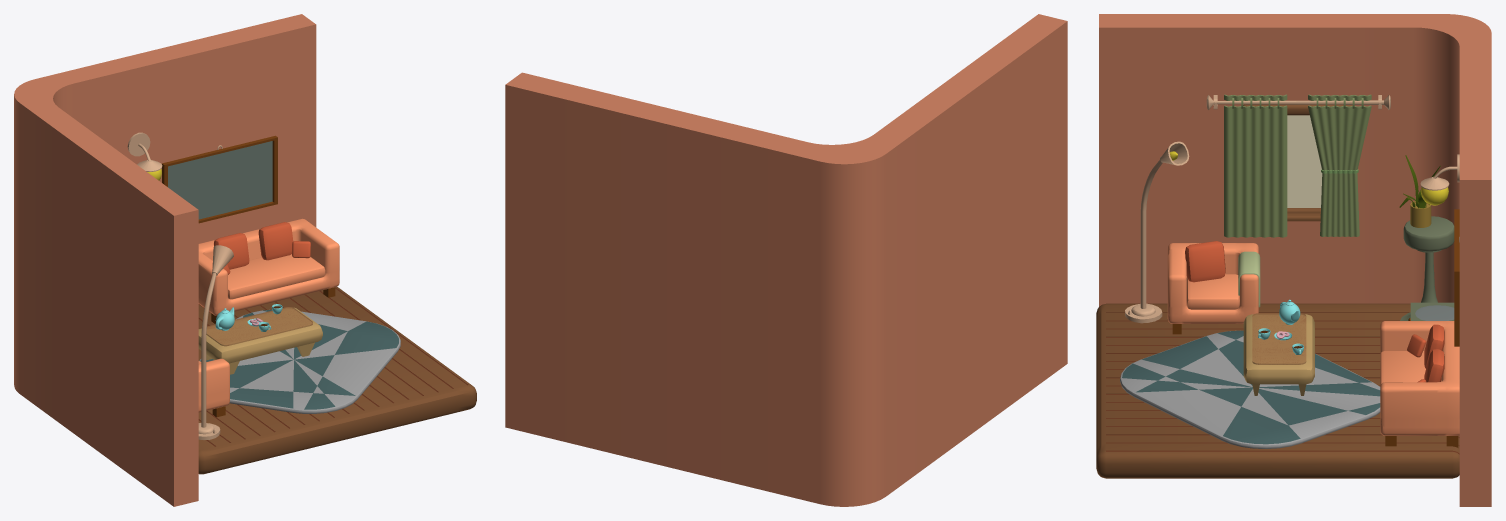
The model's file is room.gltf.
3 views of the same model, side by side, from view 1: azimuth 30°, elevation 25°; view 2: azimuth 150°, elevation 25°; view 3: azimuth 270°, elevation 25° (orthographic). The views are drawn at different scales.
Visible parts, largest first — view 1: Cube.002, Cube, Cube.009, Cube.023, Cube.004, Cube.015, Cube.005, Cube.016, Cube.007, Plane.006, Cube.010; view 2: Cube.002; view 3: Cube.002, Cube, Cube.009, Cube.021, Cube.004, Cube.022, Cube.015, Cube.010, Cube.016, Plane.006, Cylinder, Cube.011 (+9 smaller).
Part boxes in pixels (x1,y1,x2,y2): Cube.002: [14, 14, 316, 506]; Cube: [198, 286, 476, 474]; Cube.009: [199, 309, 400, 413]; Cube.023: [162, 135, 277, 223]; Cube.004: [198, 218, 339, 315]; Cube.015: [198, 307, 322, 374]; Cube.005: [228, 254, 325, 299]; Cube.016: [201, 307, 312, 346]; Cube.007: [214, 222, 293, 269]; Plane.006: [198, 245, 233, 439]; Cube.010: [198, 358, 229, 412]; Cube.002: [505, 14, 1067, 506]; Cube.002: [1099, 14, 1491, 506]; Cube: [1096, 303, 1459, 478]; Cube.009: [1120, 330, 1380, 448]; Cube.021: [1224, 94, 1287, 237]; Cube.004: [1380, 321, 1459, 435]; Cube.022: [1308, 94, 1371, 236]; Cube.015: [1243, 314, 1314, 395]; Cube.010: [1167, 243, 1258, 323]; Cube.016: [1252, 313, 1306, 364]; Plane.006: [1125, 141, 1189, 323]; Cylinder: [1400, 216, 1454, 320]; Cube.011: [1186, 274, 1239, 309].
Bounding box in the file's own units: 9.51 × 8.68 × 9.51.
